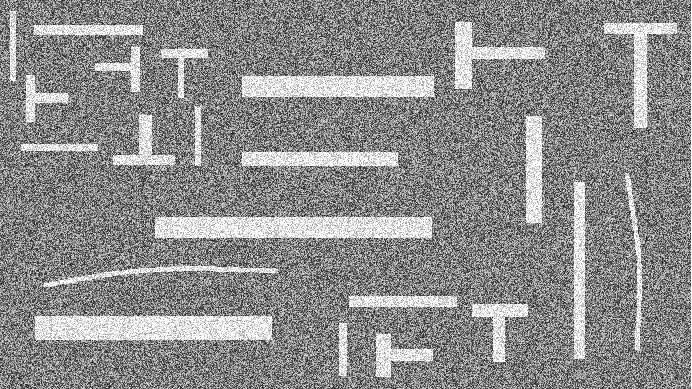LaneMark: (149, 211, 442, 248), (594, 16, 683, 128), (26, 308, 283, 346), (234, 68, 440, 105), (450, 17, 550, 91), (615, 170, 653, 357), (40, 263, 283, 292), (567, 176, 596, 369), (236, 145, 403, 175), (512, 108, 550, 233), (471, 296, 536, 368), (110, 115, 180, 170), (371, 328, 436, 379), (157, 42, 213, 100), (30, 19, 150, 44), (23, 71, 72, 128), (341, 292, 462, 310), (15, 136, 102, 158), (332, 315, 356, 378), (187, 102, 208, 172), (5, 6, 20, 86)
